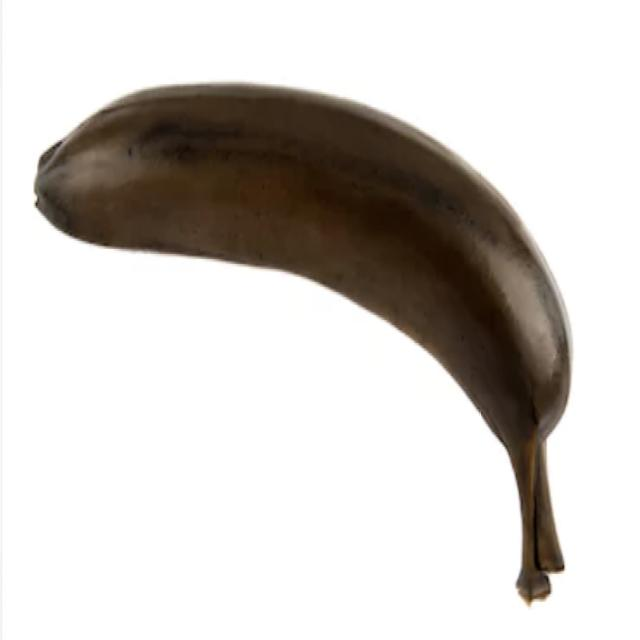Rotten: (23, 68, 590, 622)
